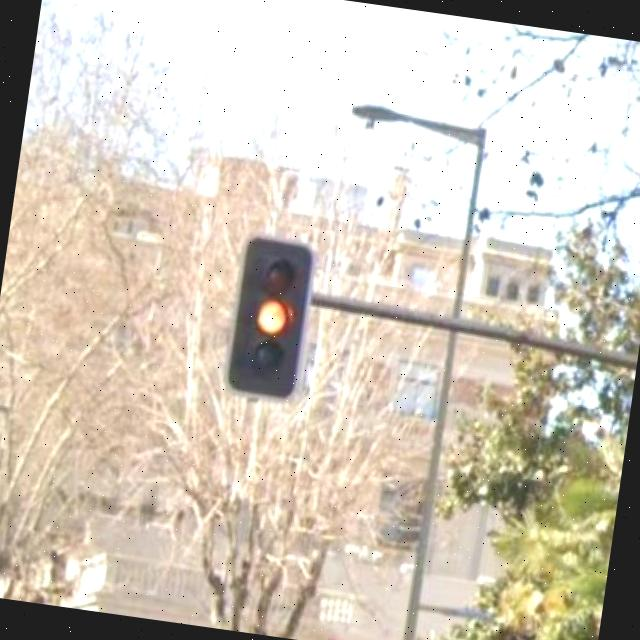yellow_light: (244, 243, 304, 393)
